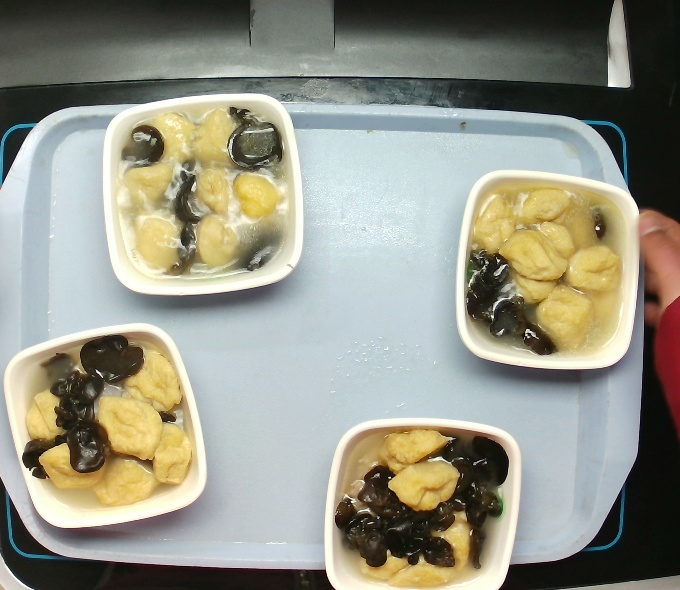wcq-MuErYouPaoTang: (14, 322, 199, 525), (100, 102, 305, 277), (453, 172, 637, 362), (337, 422, 506, 584)
